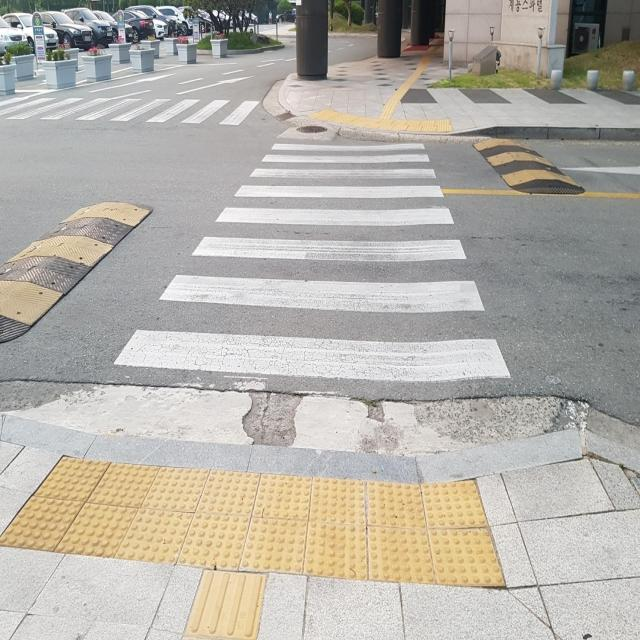횡단보도: (110, 137, 514, 386), (1, 96, 259, 127)
